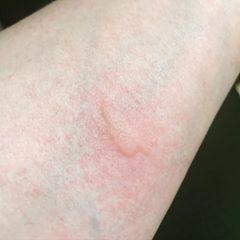Mosquito: (79, 95, 169, 175)
